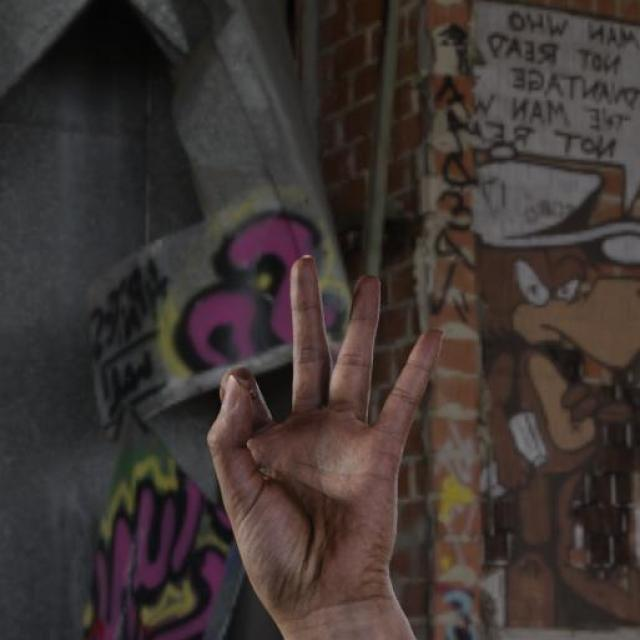F: (205, 252, 449, 600)
